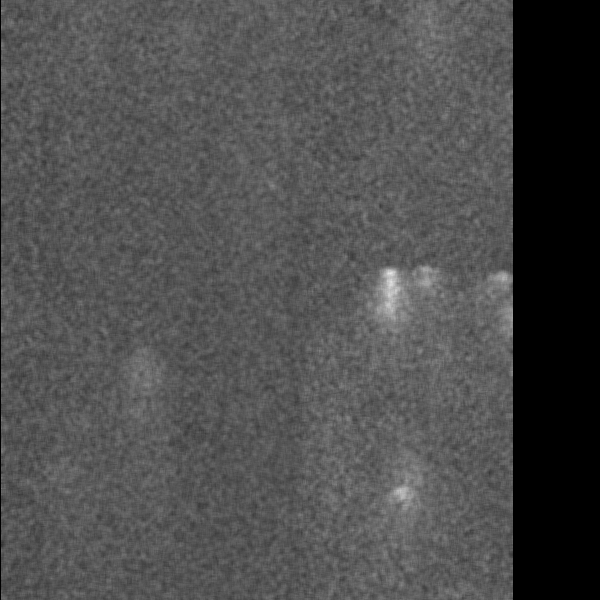spark: (373, 259, 407, 385), (127, 348, 162, 398), (377, 482, 428, 512), (491, 268, 510, 323)
